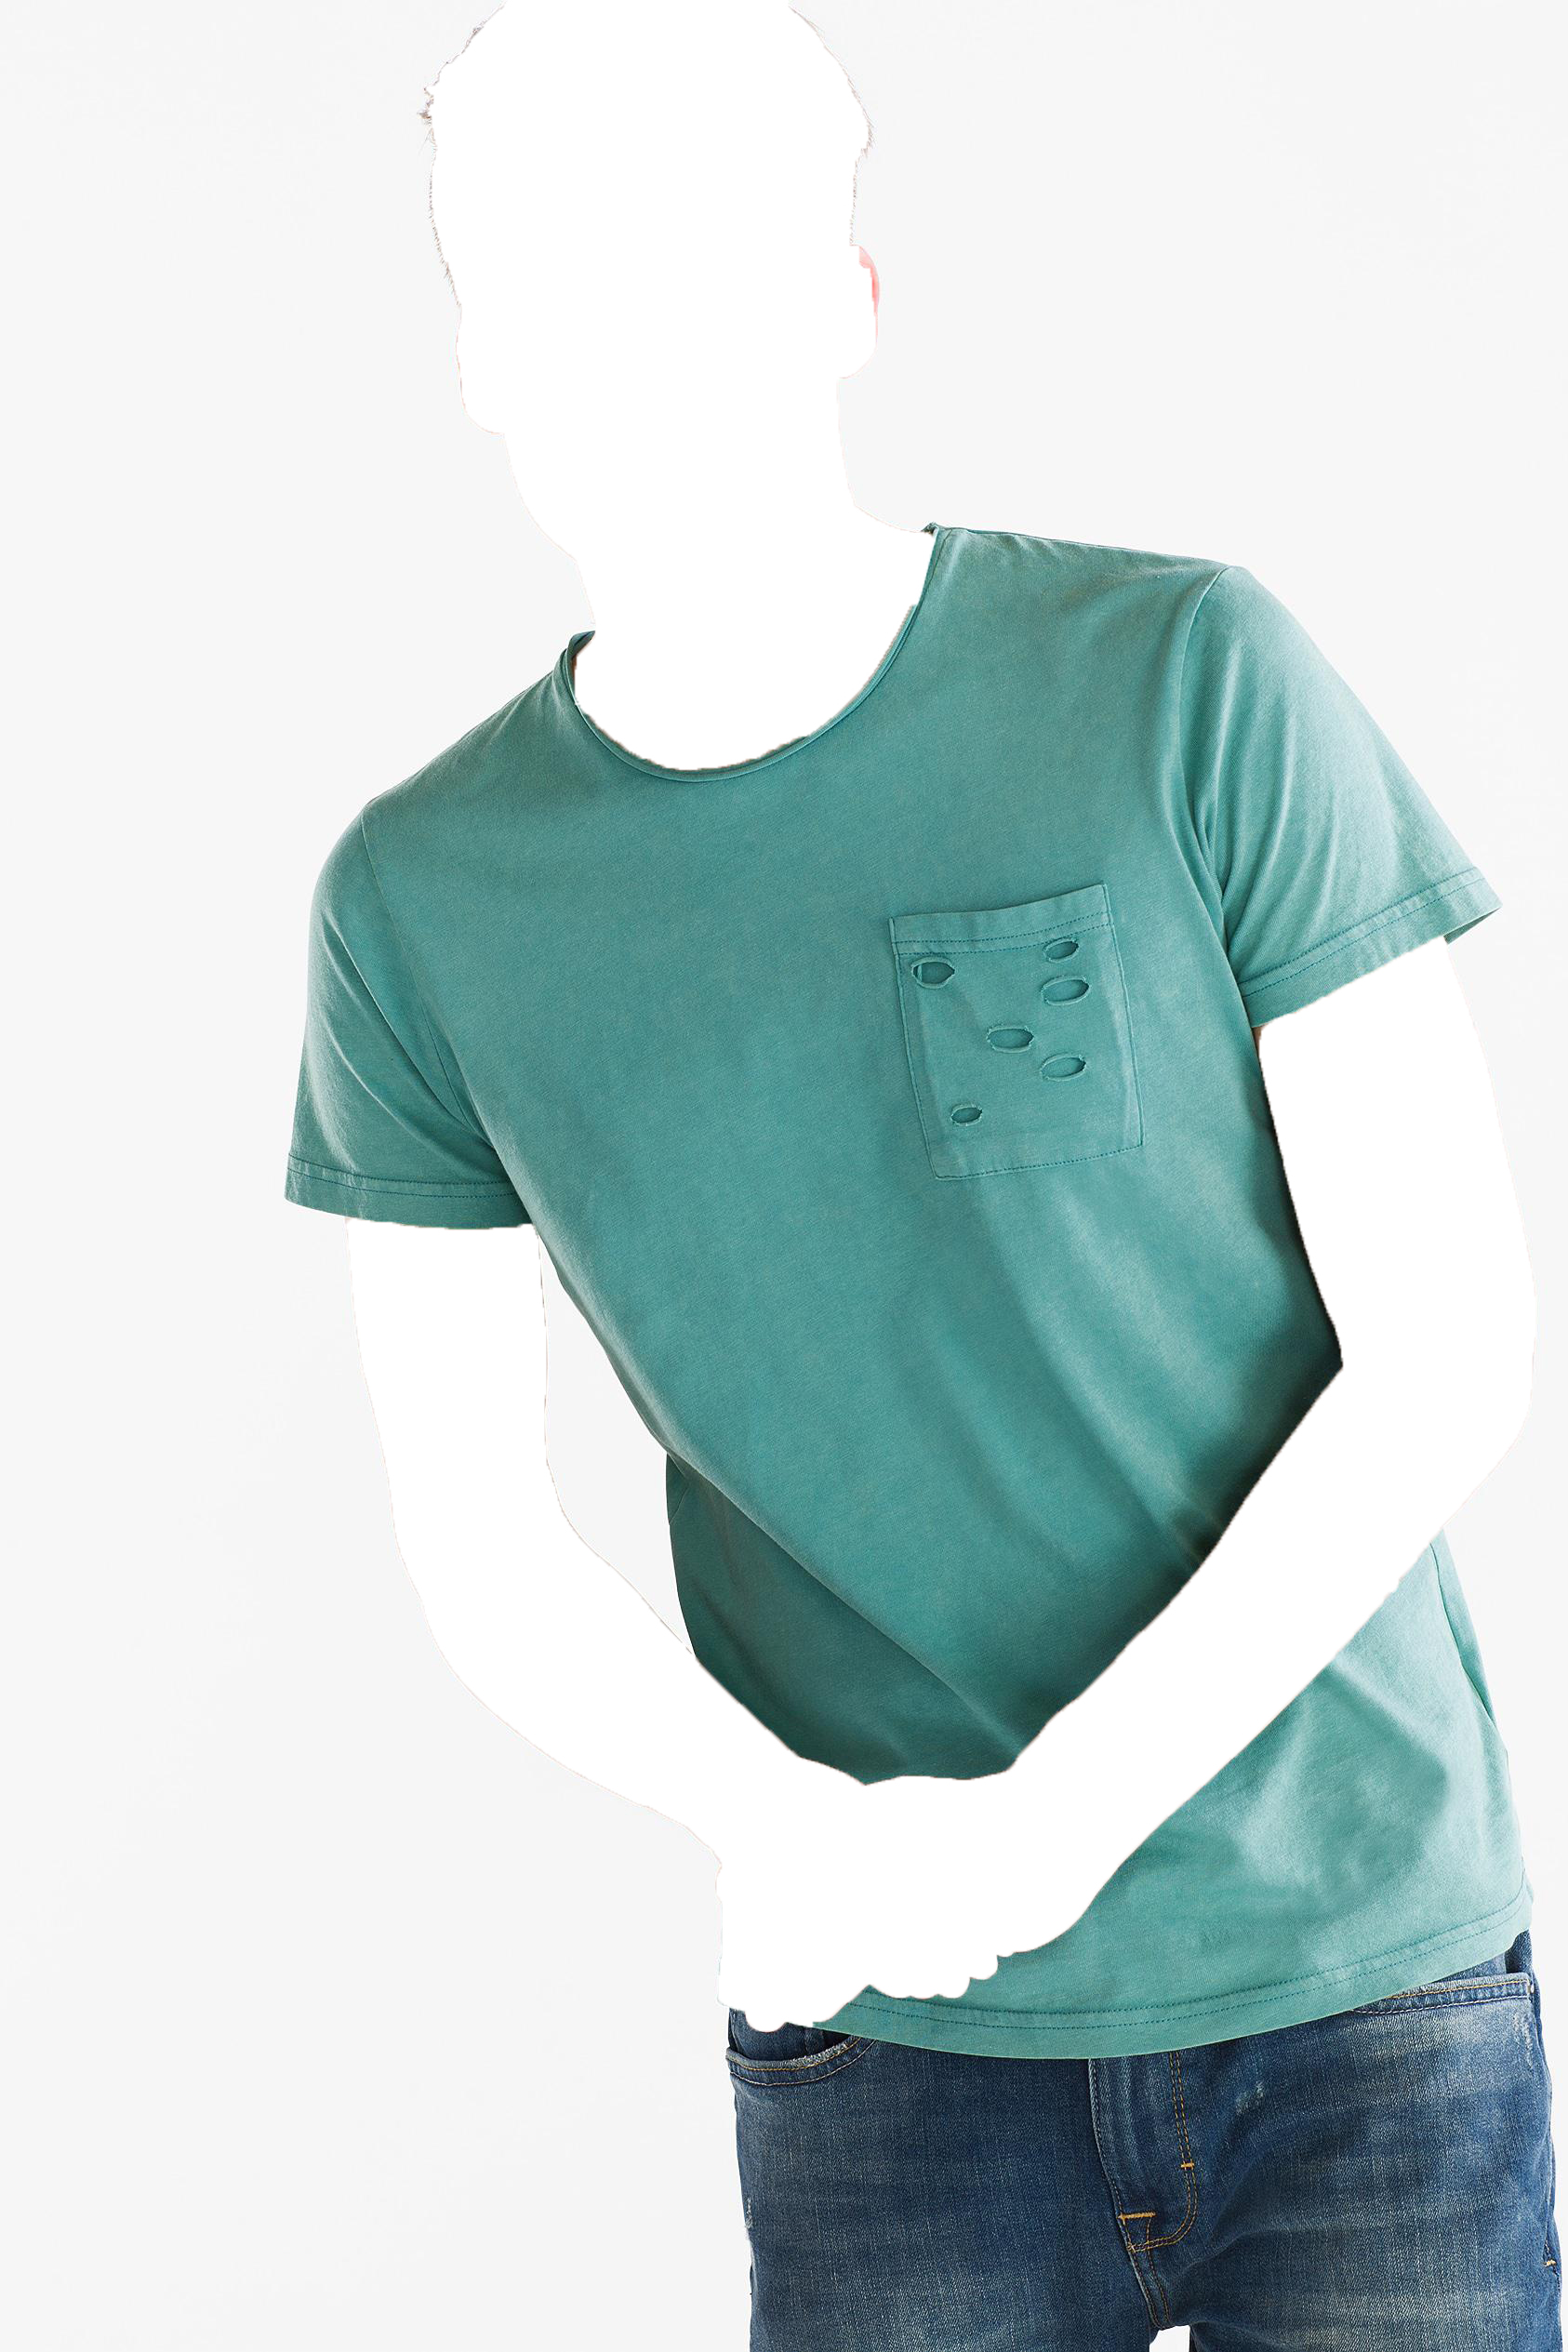teeshirt: (245, 516, 1568, 2009)
